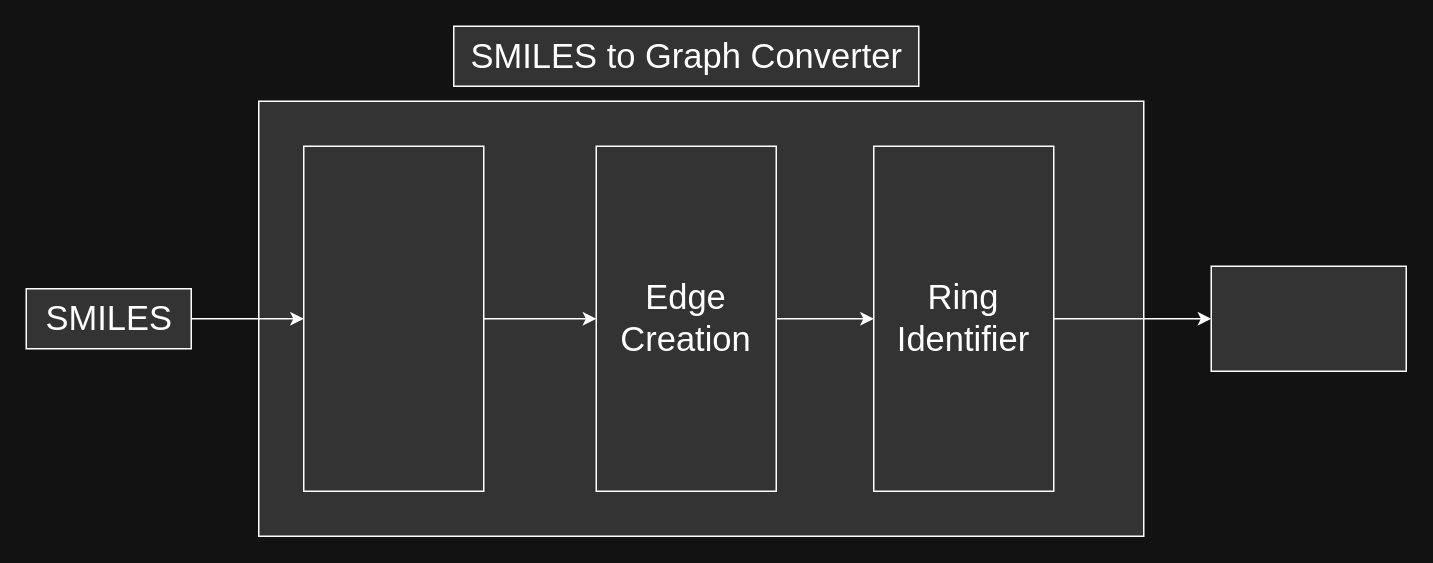
The diagram is 1433 pixels wide and 563 high, and some of its shapes have lost their labels. The shapes that lost their labels are listed below. From the top down, each one's box as (x1, y1, x2, y2) in pixels, then its label:
(302, 145, 484, 491): Vertex Creation
(1210, 265, 1406, 371): Molecular Graph
